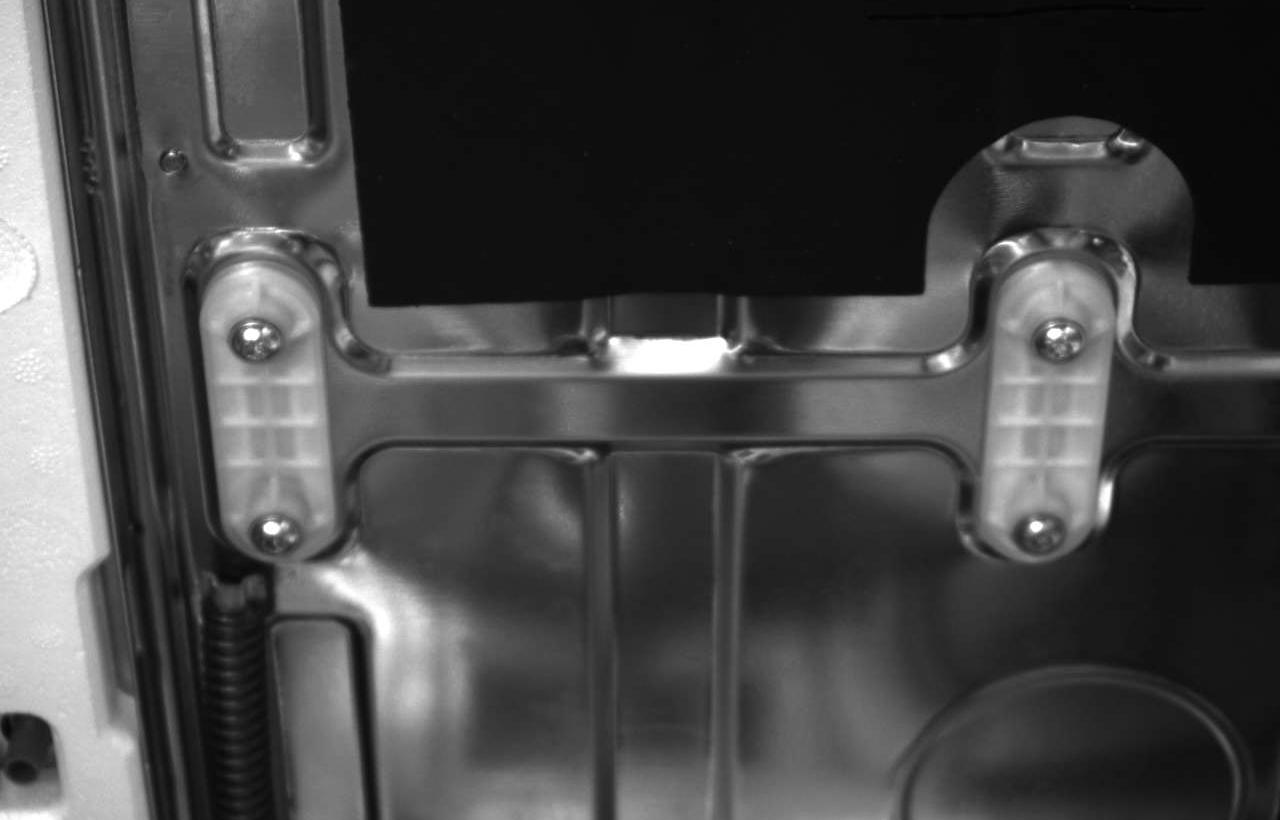vida-ok: (214, 299, 301, 377), (1017, 299, 1105, 372), (232, 501, 312, 565), (1000, 498, 1075, 557)
